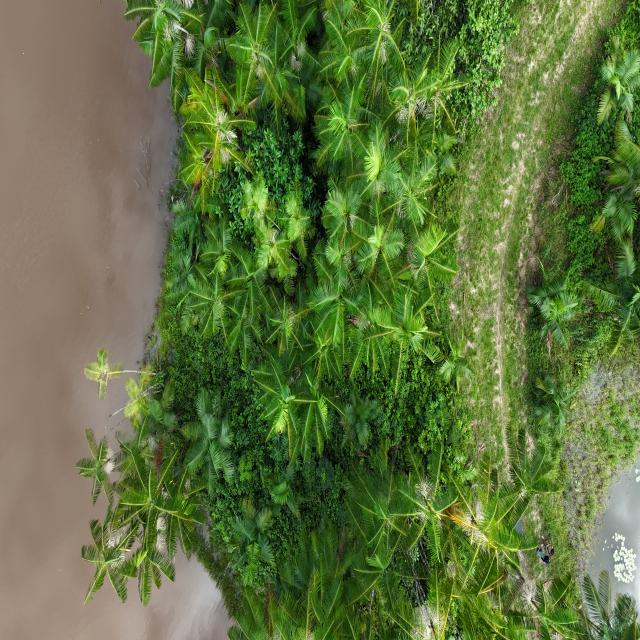vegetation: (75, 1, 636, 637)
